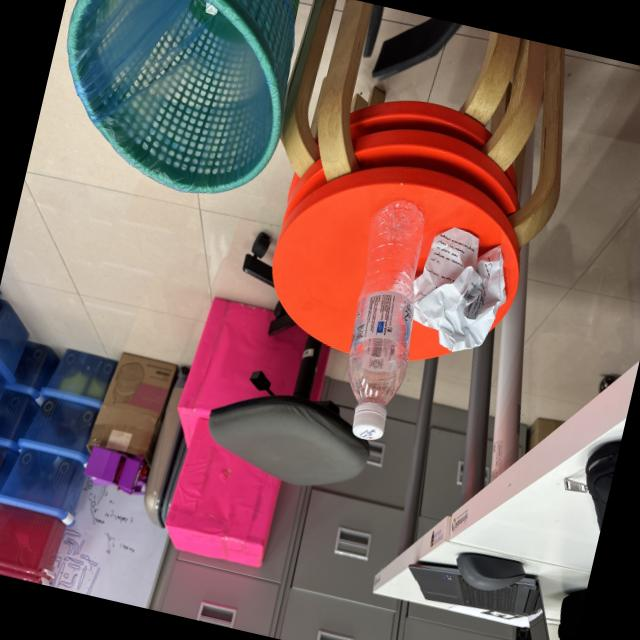crumpled_paper: (394, 210, 526, 369)
plastic_bottle: (312, 185, 444, 453)
